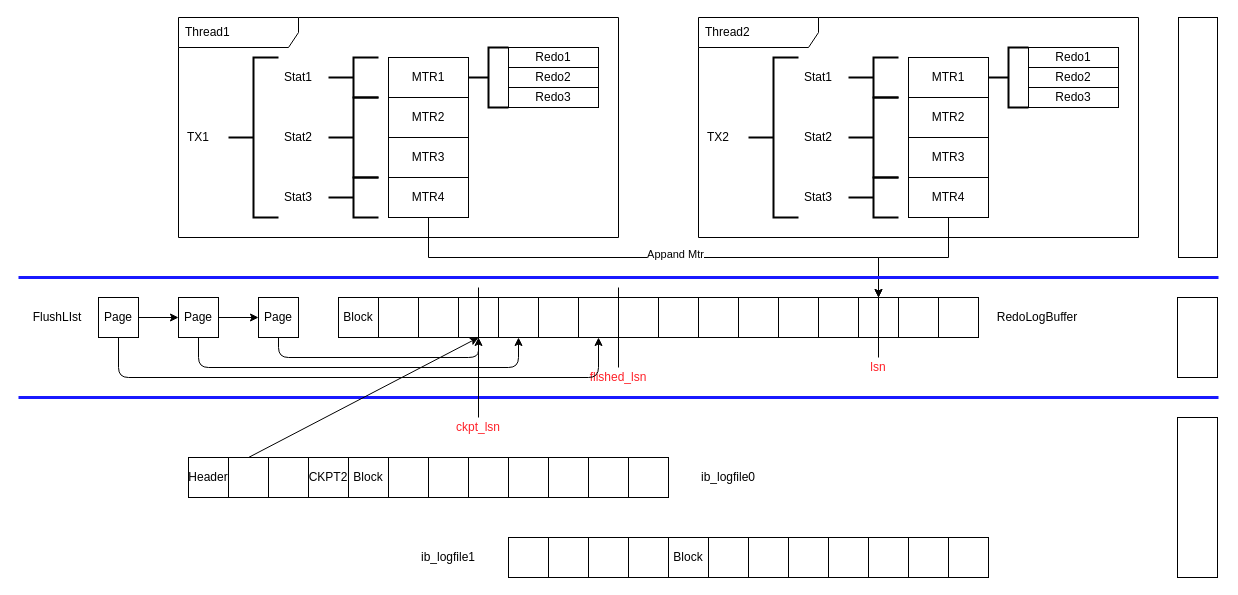
This 1238x595 diagram has some shape labels left out. The shapes that lost their labels are listed below. From the top down, each one's centre as x and y in pixels, then its label:
pixel 1198 137: 用户 线程
pixel 1197 337: 内存
pixel 248 477: CKPT1
pixel 1197 497: 磁盘
